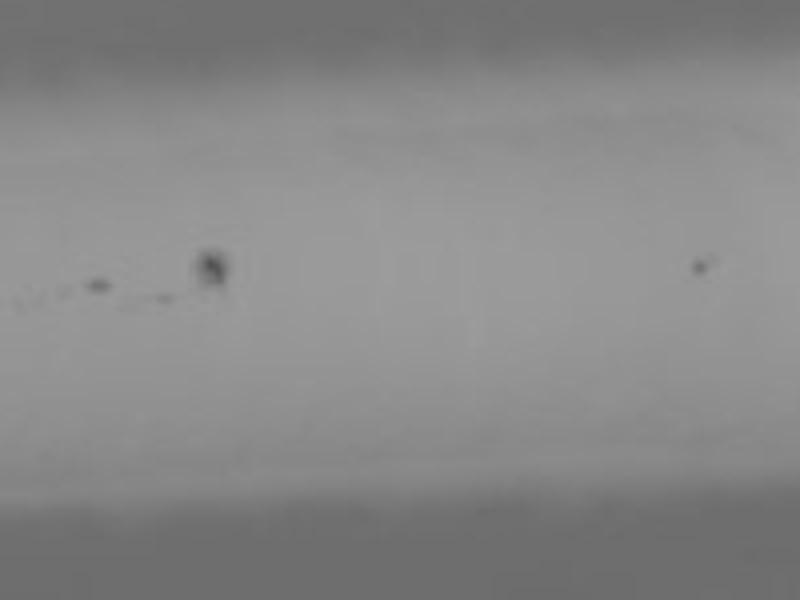defect: (192, 248, 231, 287), (84, 273, 121, 296), (684, 255, 709, 280), (147, 291, 178, 305)
